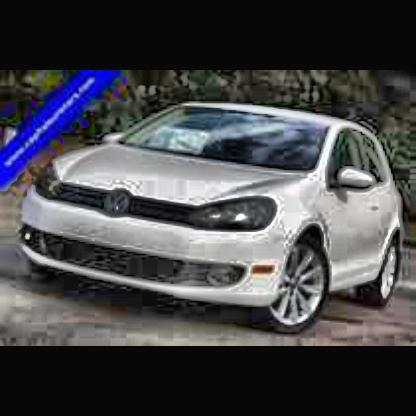Volkswagen Golf Hatchback 2012: (18, 101, 402, 337)
